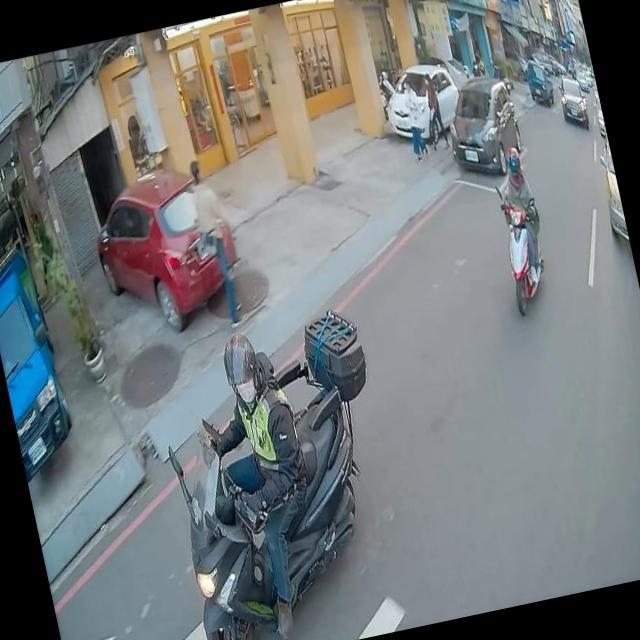person: (169, 321, 343, 640), (175, 156, 249, 333), (487, 148, 551, 286), (412, 67, 452, 154), (396, 73, 434, 161), (457, 60, 472, 83), (468, 57, 483, 78), (474, 55, 486, 75)
